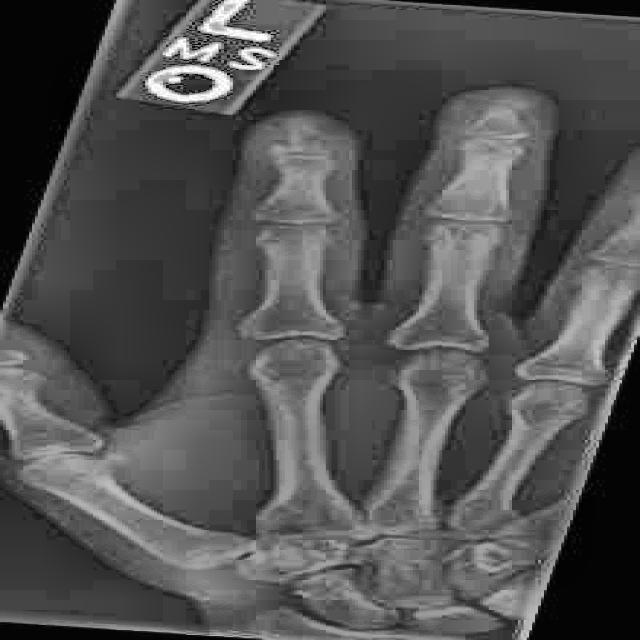fingers positive: (257, 129, 345, 157), (477, 122, 535, 145)
